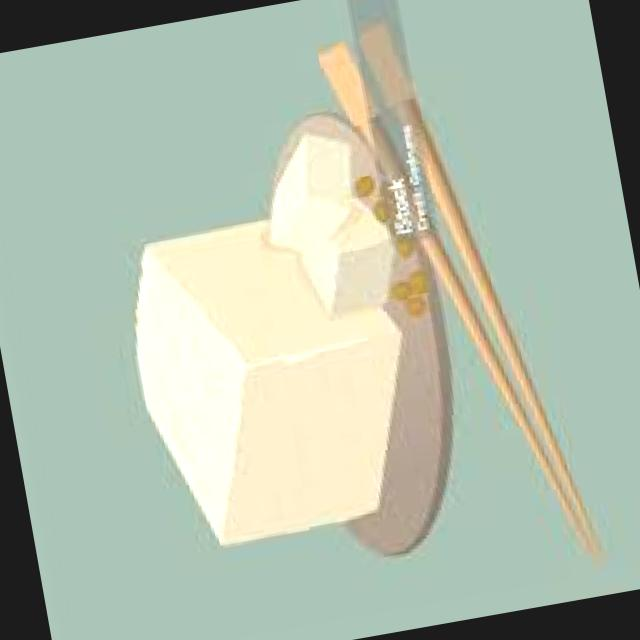tofu: (85, 113, 450, 569)
